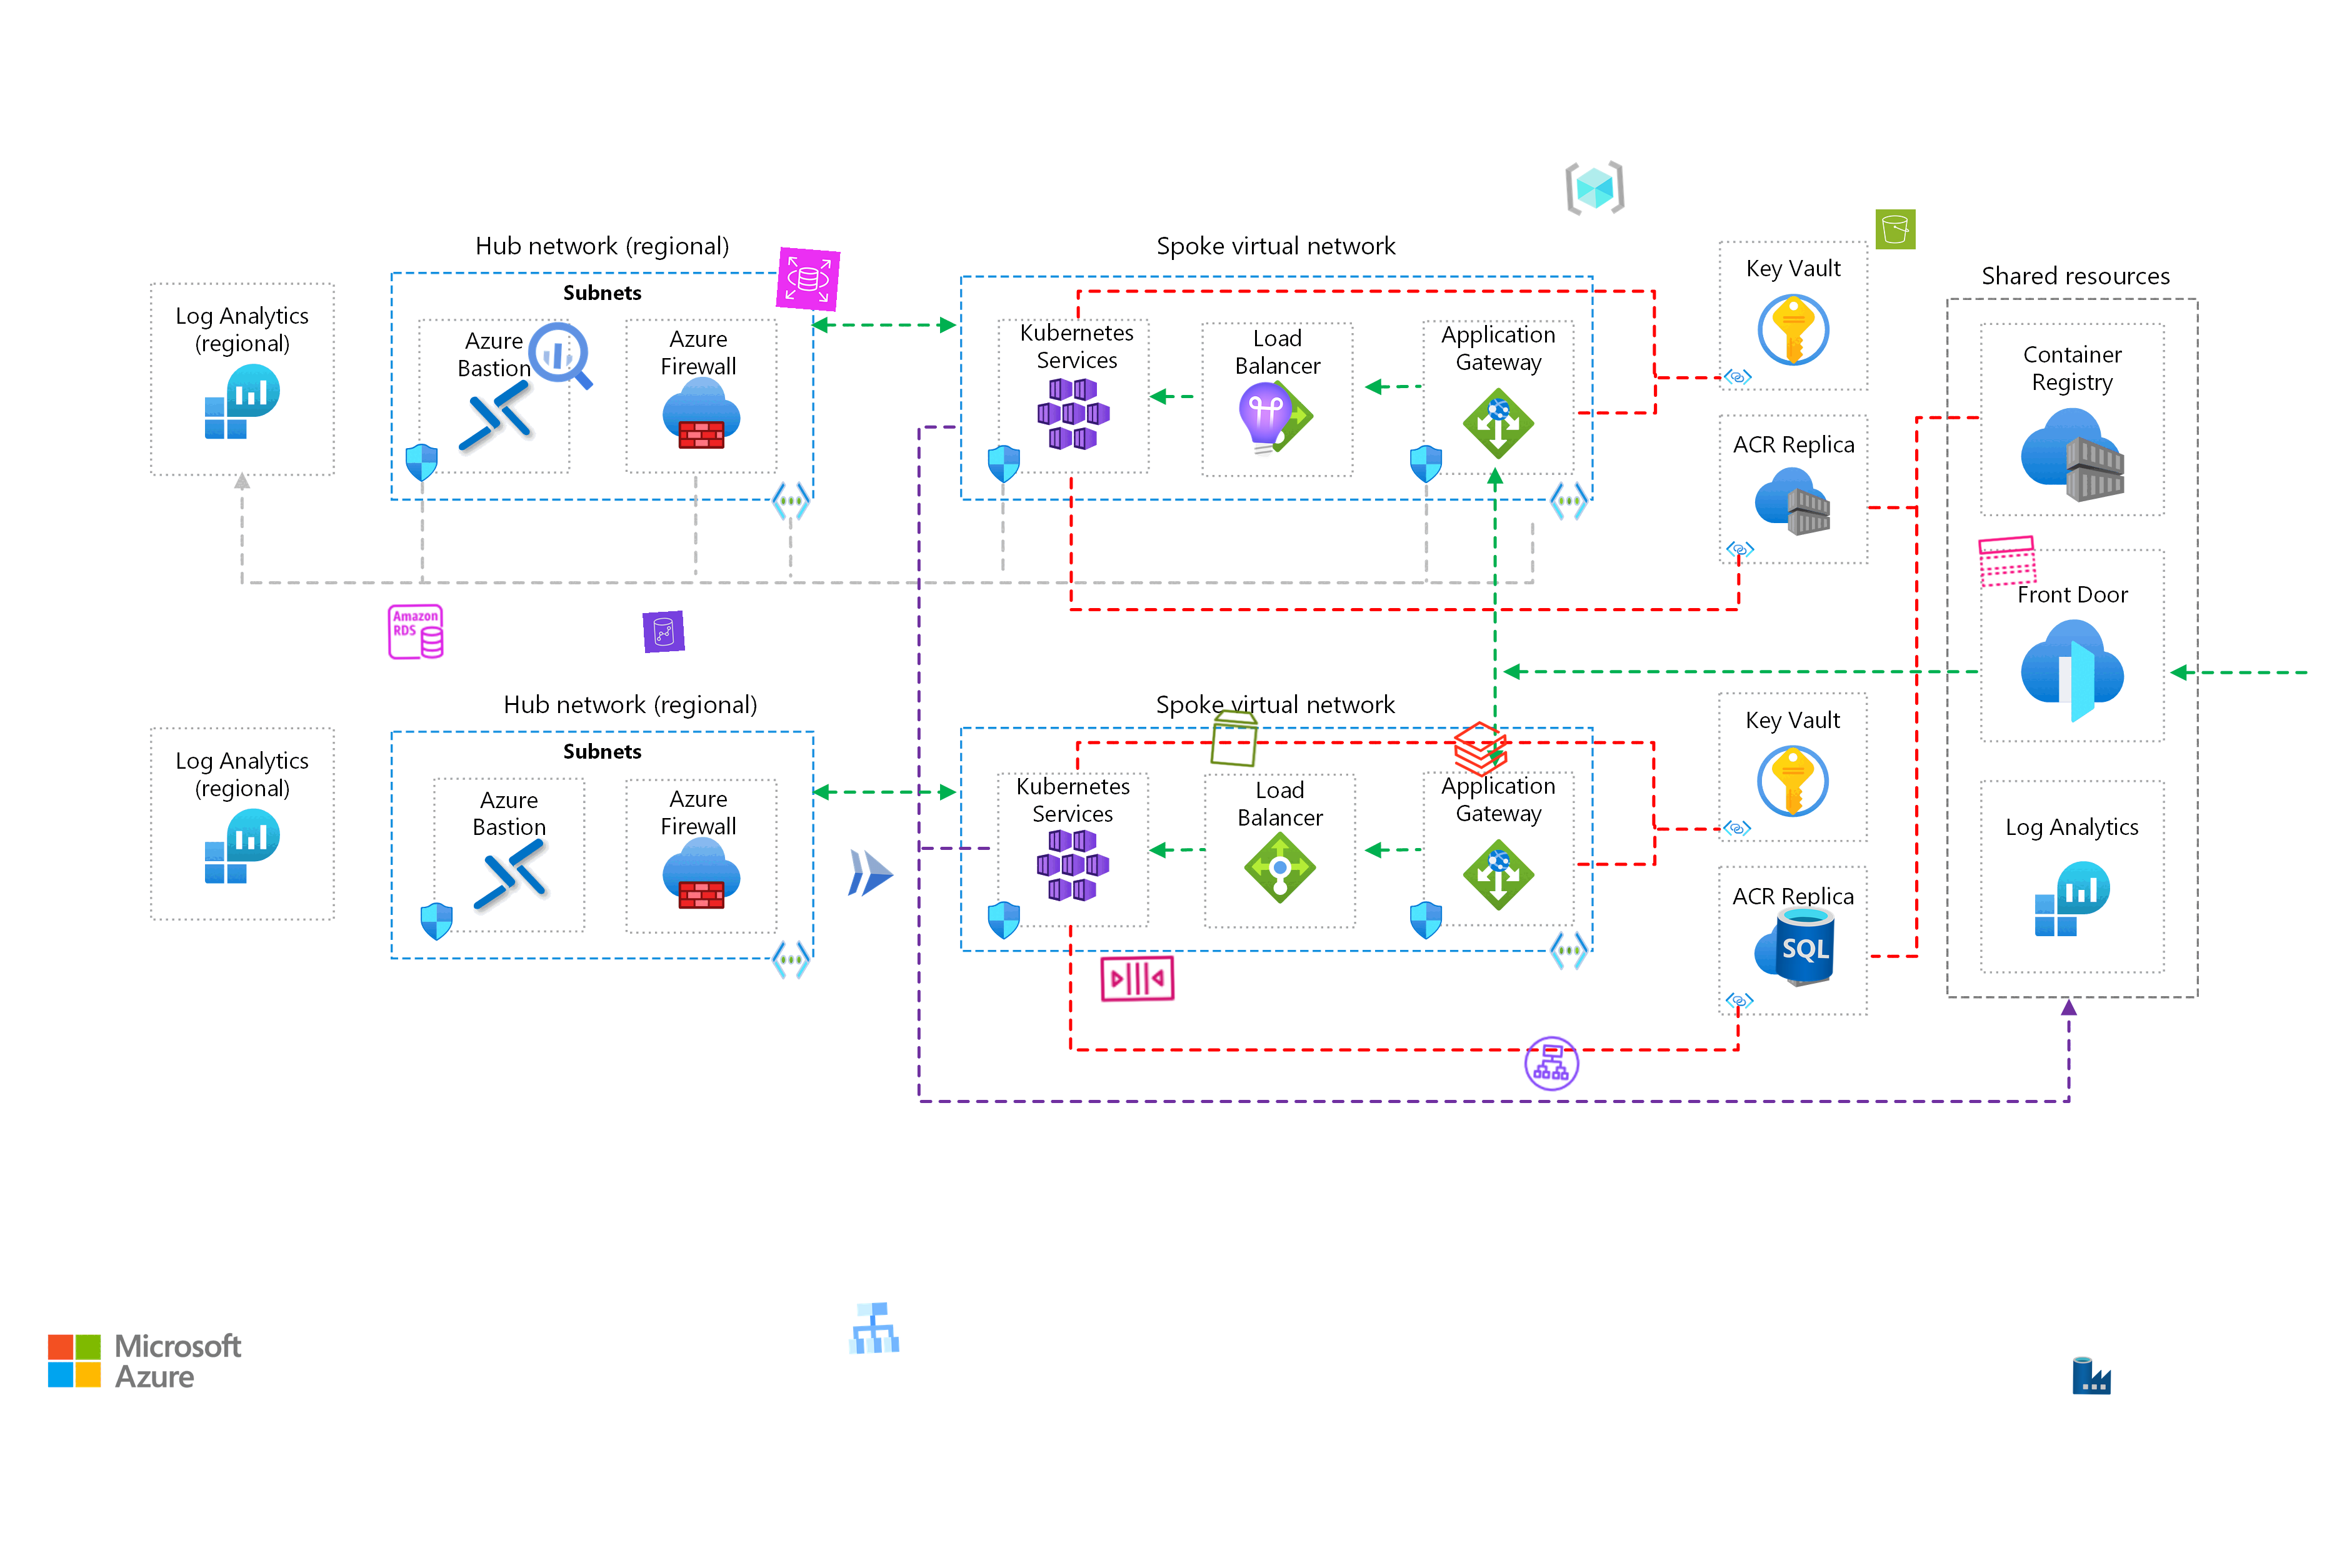aws_amazon_rds: (775, 247, 840, 311)
aws_amazon_redshift: (642, 611, 684, 653)
aws_amazon_simple_storage_service: (1874, 208, 1916, 250)
aws_aurora_amazon_rds_instance: (385, 602, 446, 663)
aws_elastic_block_store_volume: (1202, 705, 1267, 770)
aws_elastic_load_balancing_application_load_balancer: (1519, 1031, 1584, 1095)
aws_simple_notification_service_topic: (1976, 528, 2041, 593)
aws_simple_queue_service_queue: (1095, 936, 1179, 1018)
azure_application_insights: (1223, 378, 1307, 462)
azure_data_factories: (2072, 1354, 2112, 1396)
azure_databricks: (1449, 717, 1512, 780)
azure_resource_groups: (1563, 156, 1627, 220)
azure_sql_database: (1764, 903, 1846, 985)
gcp_bigquery: (518, 313, 604, 397)
gcp_cloud_load_balancing: (842, 1297, 905, 1360)
gcp_cloud_run: (838, 842, 903, 905)
